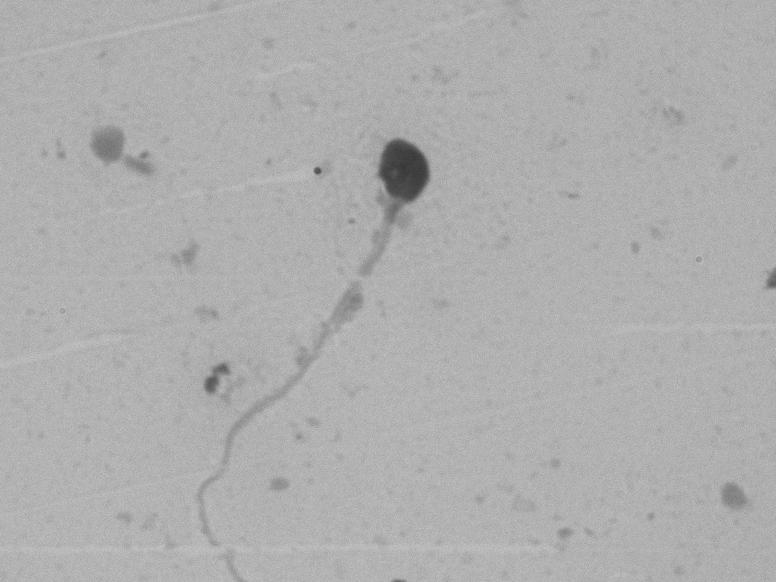Abnormal: (164, 115, 461, 566)
